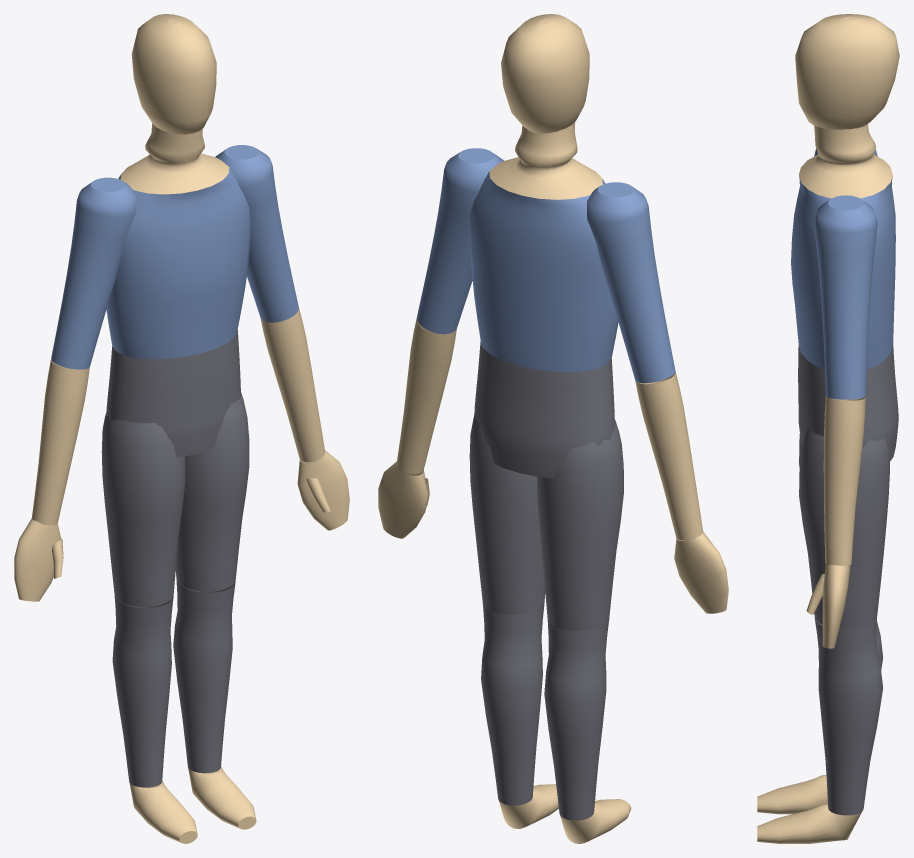
File: base_male.glb
3 views of the same model, side by side, from view 1: azimuth 30°, elevation 25°; view 2: azimuth 150°, elevation 25°; view 3: azimuth 270°, elevation 25° (orthographic). The views are drawn at different scales.
Parts seen in each view (by area): view 1: base_male; view 2: base_male; view 3: base_male.
Boxes of the visible parts, x1,y1,x2,y2 form: base_male: [14, 14, 349, 843]; base_male: [378, 14, 728, 843]; base_male: [757, 14, 899, 843].
Bounding box in the file's own units: 0.8 × 1.79 × 0.2862.
